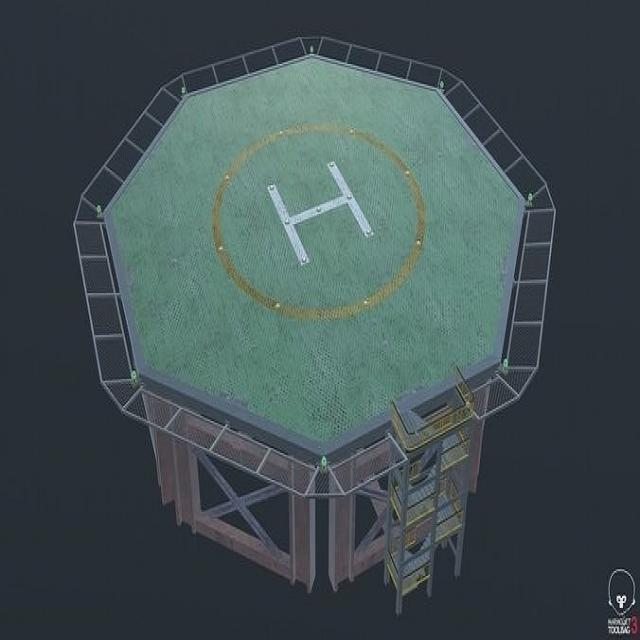helipad: (206, 115, 426, 326)
